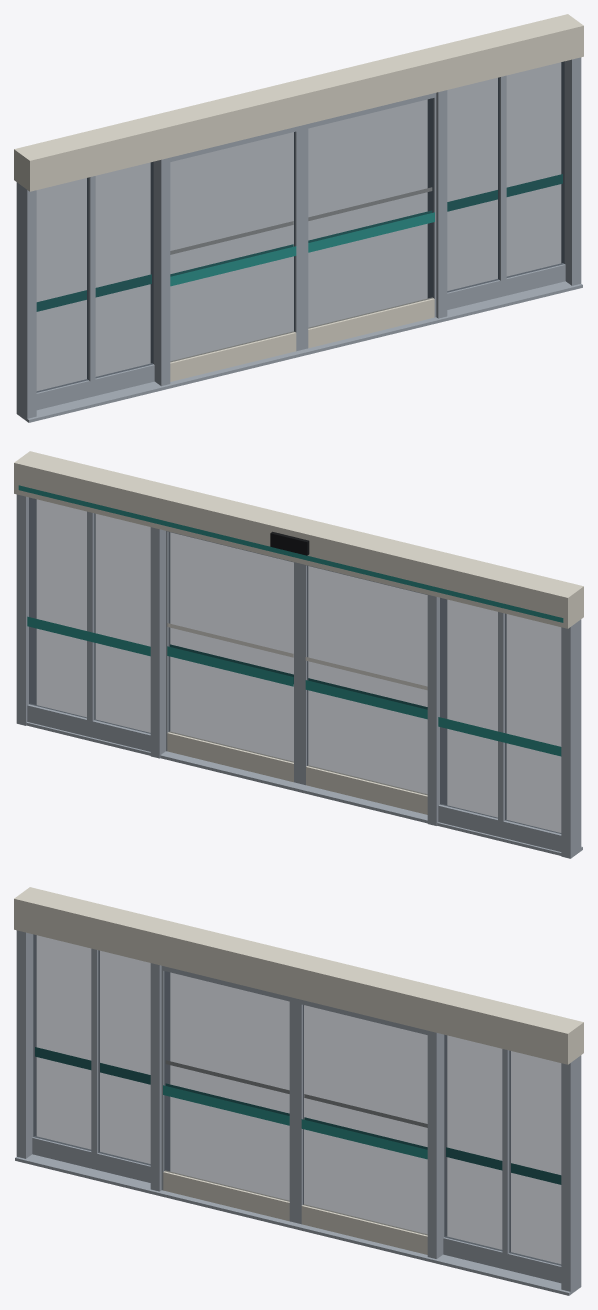
File: hospital_sliding_door_pair.glb
3 views of the same model, one above another, from view 1: azimuth 30°, elevation 25°; view 2: azimuth 150°, elevation 25°; view 3: azimuth 330°, elevation 25° (orthographic).
Visible parts, largest first — view 1: Frame, Door_R, Door_L; view 2: Frame, Door_R, Door_L; view 3: Frame, Door_L, Door_R.
Part boxes in pixels (x1=…): Frame: x1=14, y1=14, x2=583, y2=422; Door_R: x1=302, y1=93, x2=436, y2=349; Door_L: x1=170, y1=125, x2=302, y2=381; Frame: x1=14, y1=451, x2=583, y2=858; Door_R: x1=166, y1=531, x2=299, y2=783; Door_L: x1=300, y1=563, x2=427, y2=814; Frame: x1=14, y1=887, x2=583, y2=1295; Door_L: x1=161, y1=966, x2=295, y2=1222; Door_R: x1=295, y1=998, x2=427, y2=1254.
Size of the model in its own units: 6 by 2.72 by 0.34.
